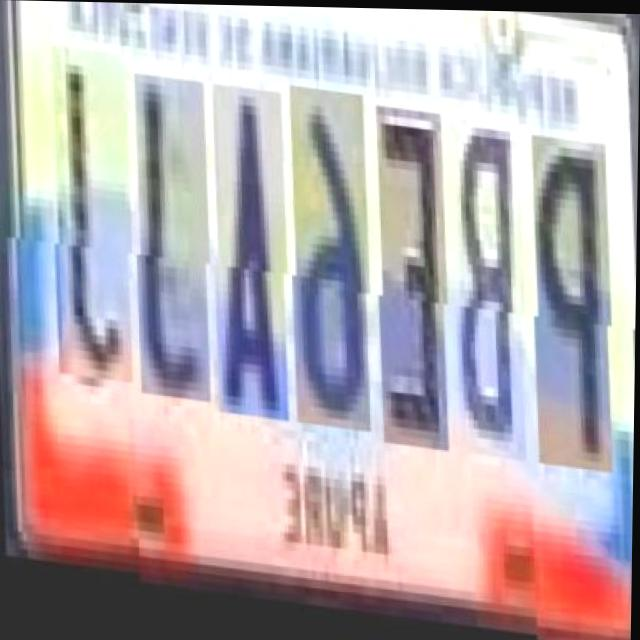6: (279, 91, 371, 437)
a: (202, 92, 288, 429)
b: (444, 118, 527, 462)
e: (367, 110, 449, 454)
j: (43, 66, 133, 404), (124, 85, 211, 411)
p: (522, 125, 612, 463)
